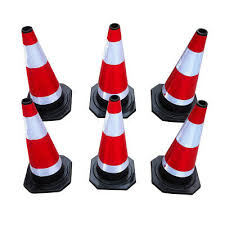cones: (152, 29, 209, 121), (153, 101, 209, 194), (19, 99, 72, 192), (87, 24, 138, 120), (22, 29, 73, 121), (90, 98, 137, 191)
